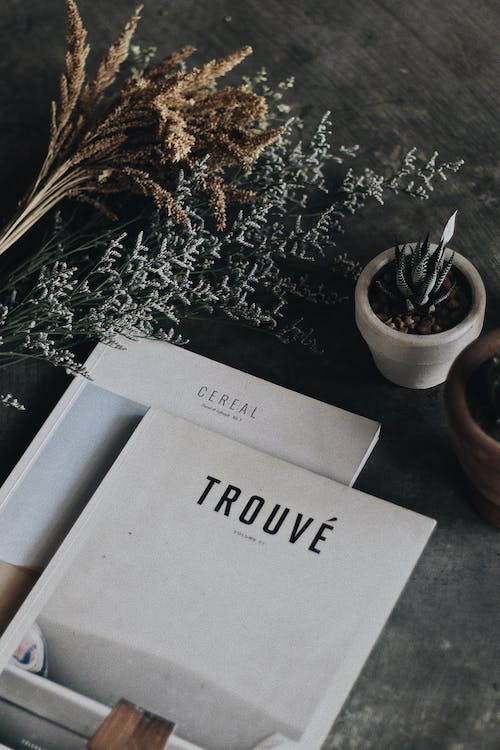book: (3, 409, 441, 750), (1, 312, 372, 683)
